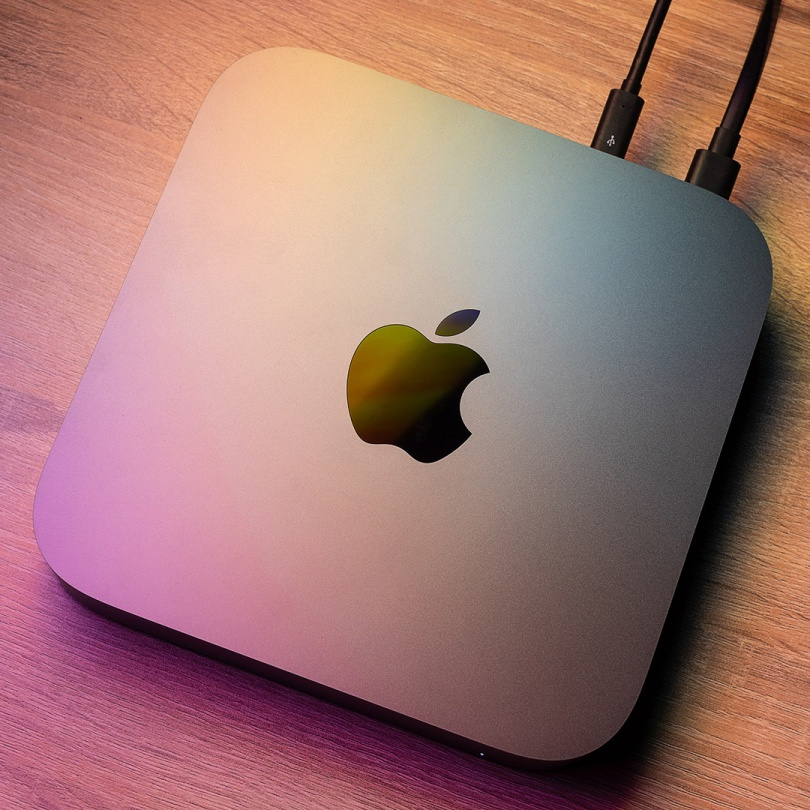apple: (342, 290, 523, 462)
